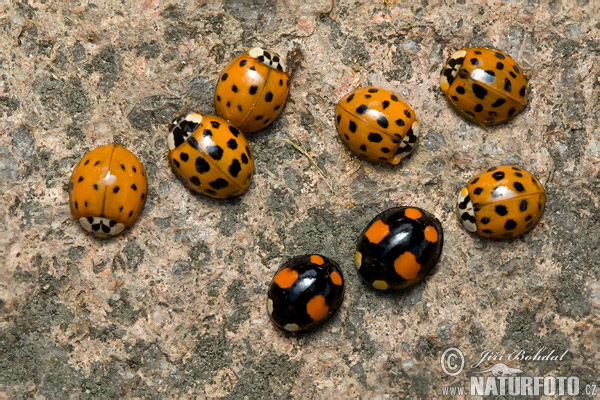red: (165, 107, 252, 205), (437, 46, 528, 129), (332, 85, 421, 168), (66, 145, 148, 235), (212, 45, 290, 133), (459, 165, 547, 239)
two_spots_mutant: (354, 207, 443, 296), (264, 253, 345, 335)
